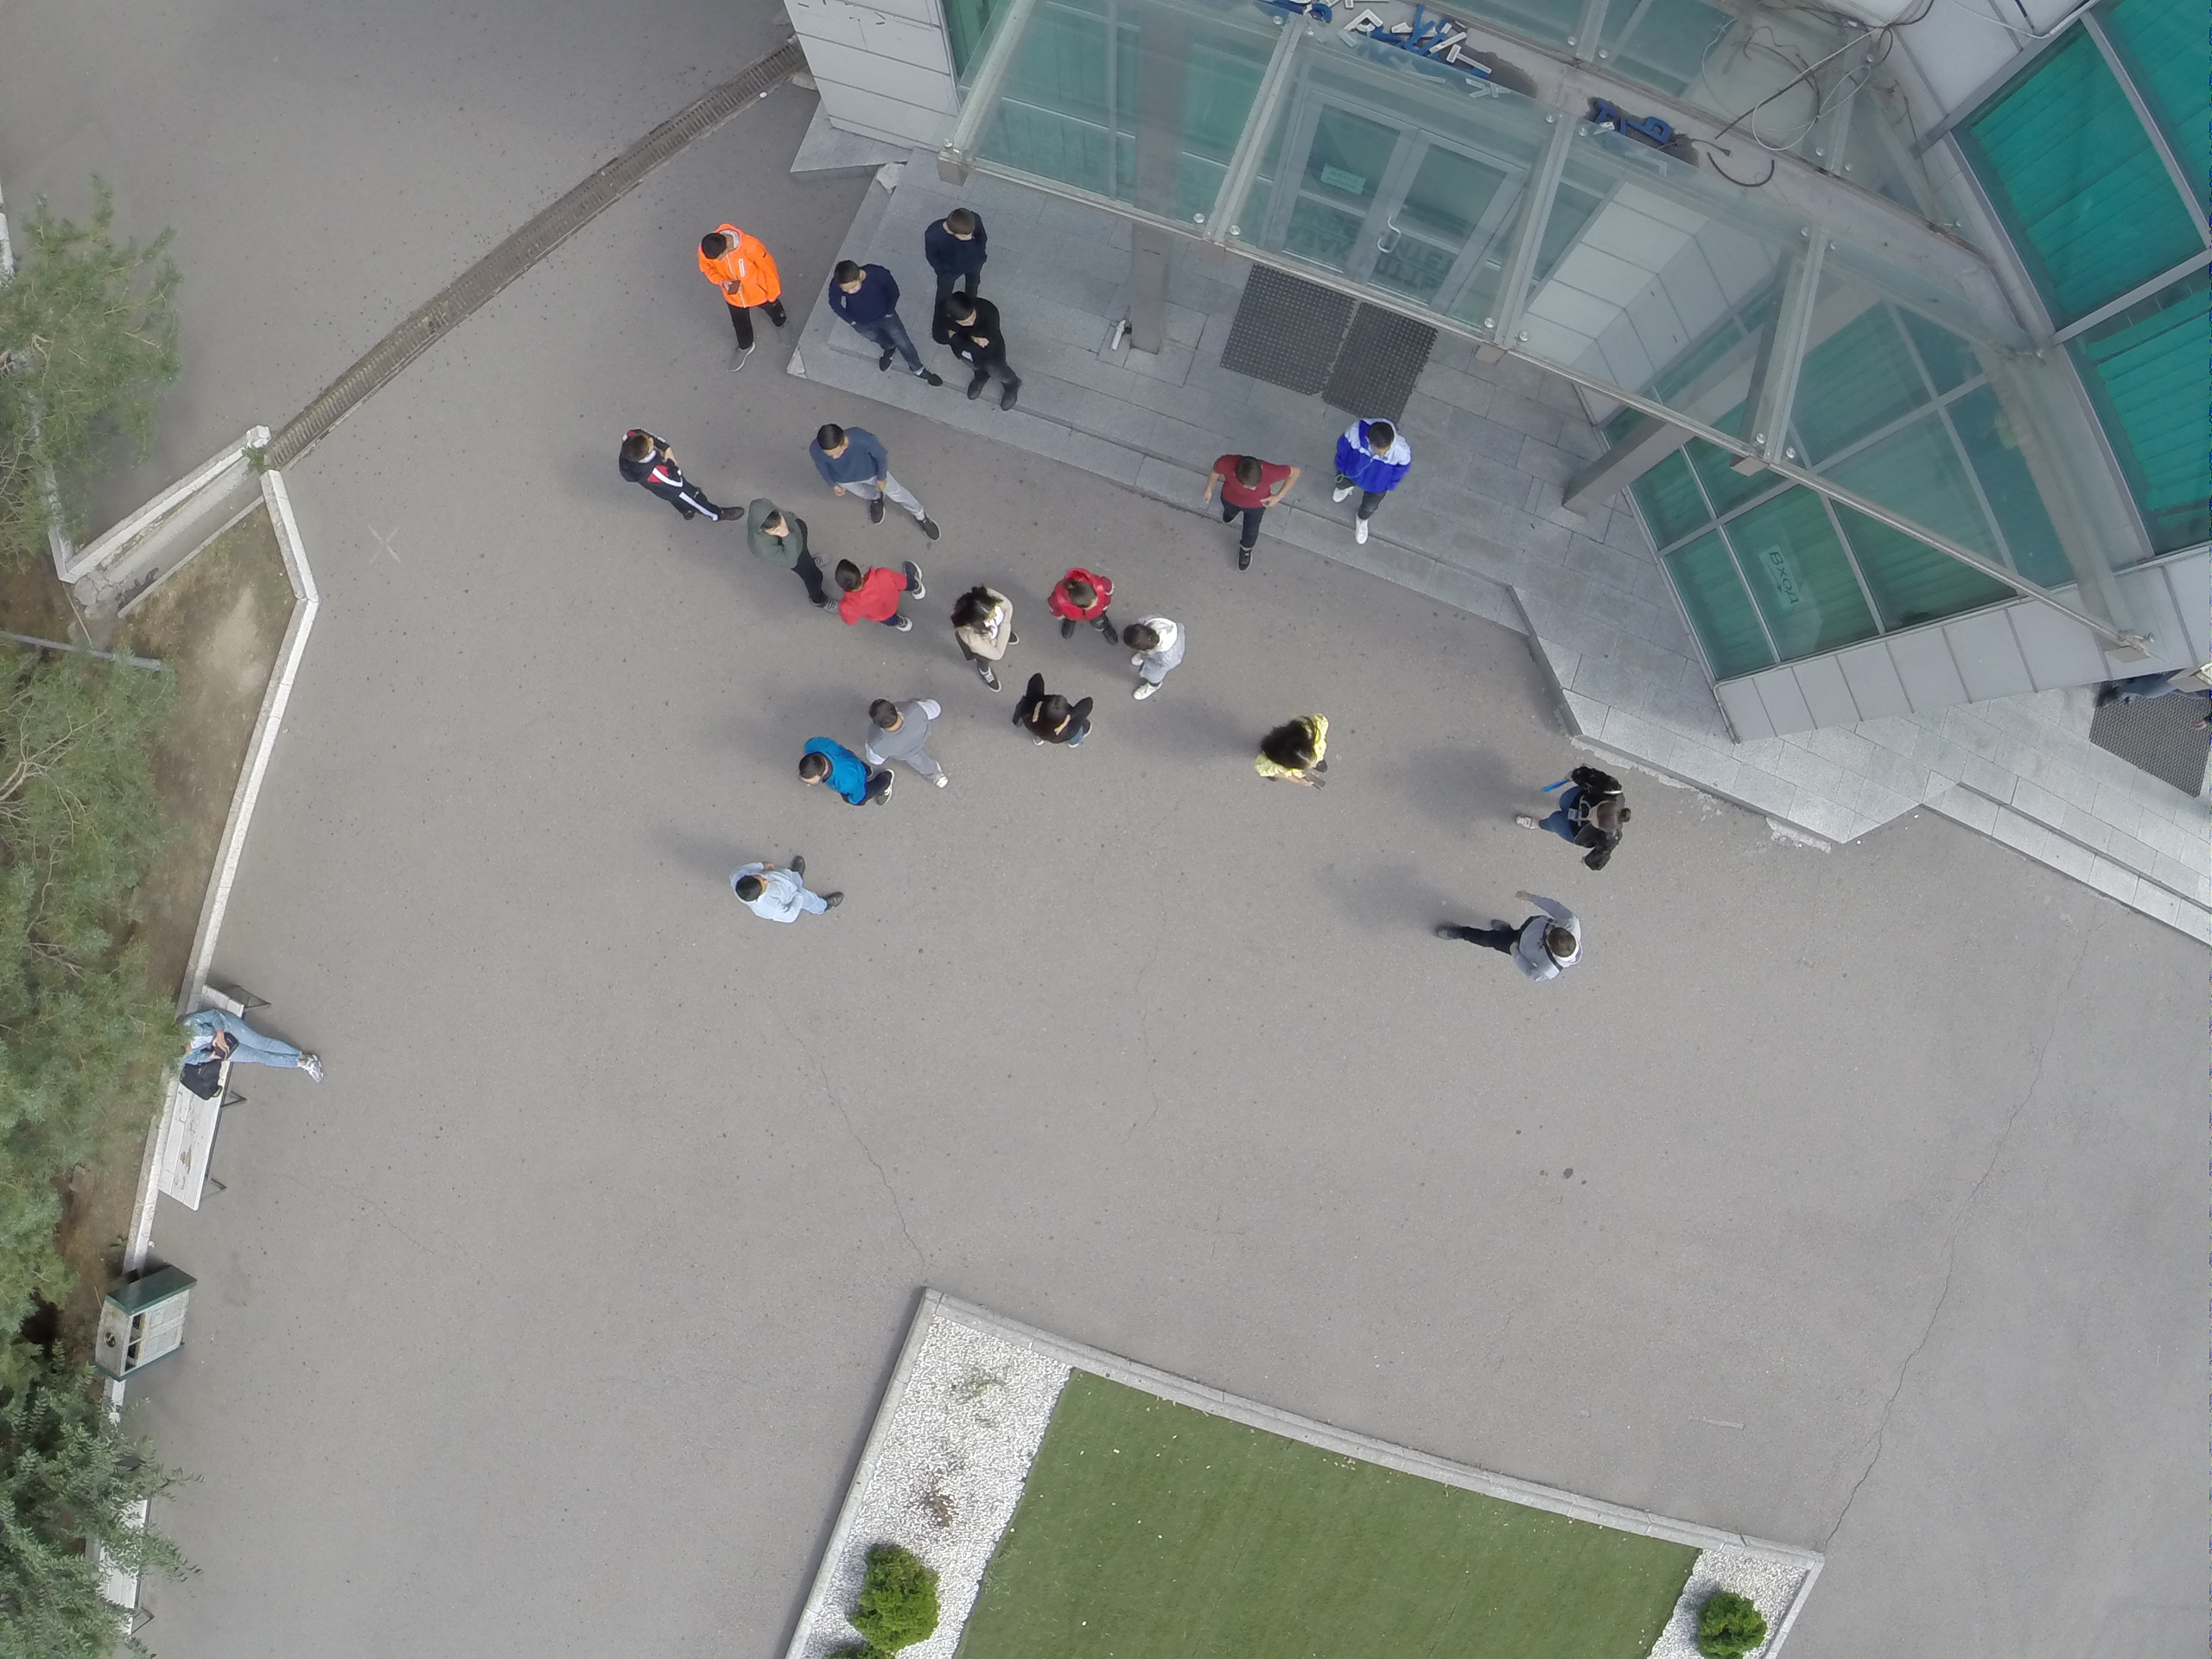person: (686, 217, 798, 376), (828, 257, 944, 388), (1433, 887, 1585, 988), (1515, 751, 1634, 874), (614, 424, 748, 523), (1202, 451, 1301, 577), (165, 1007, 322, 1082), (934, 292, 1027, 416), (1329, 414, 1412, 551), (747, 489, 833, 606), (864, 692, 949, 791), (728, 853, 848, 921), (828, 556, 926, 633), (953, 581, 1018, 695), (789, 735, 895, 805), (1253, 710, 1332, 796), (1011, 674, 1096, 750), (1121, 616, 1186, 704), (1051, 568, 1123, 647), (926, 203, 988, 291)
